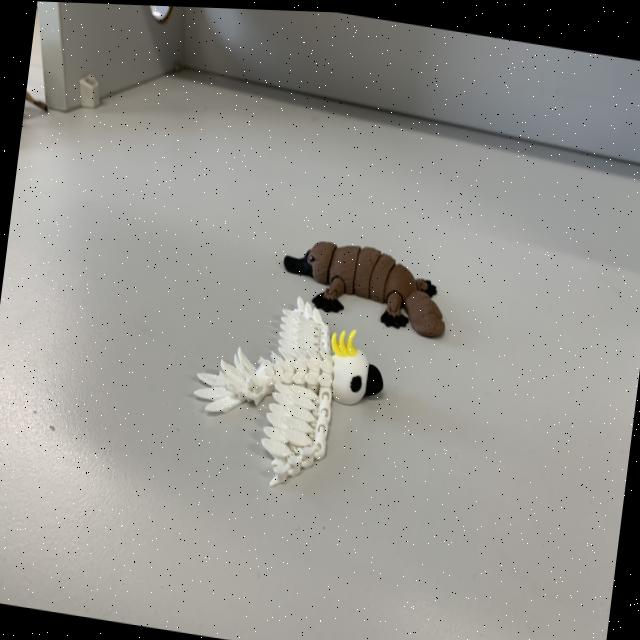cockatoo: (174, 277, 397, 515)
platypus: (270, 222, 460, 353)
